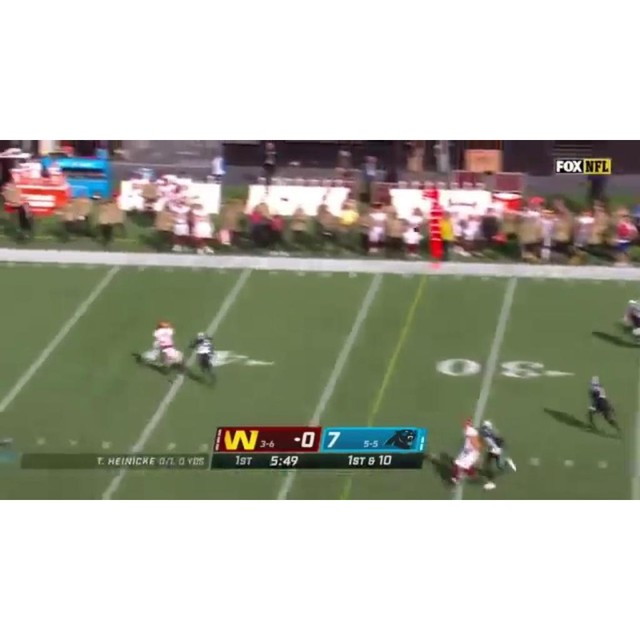american-football-player: (478, 420, 516, 491), (585, 376, 622, 439), (187, 331, 219, 386), (619, 298, 640, 340)
